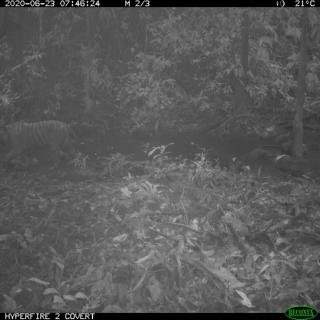Tiger: (0, 110, 88, 179)
